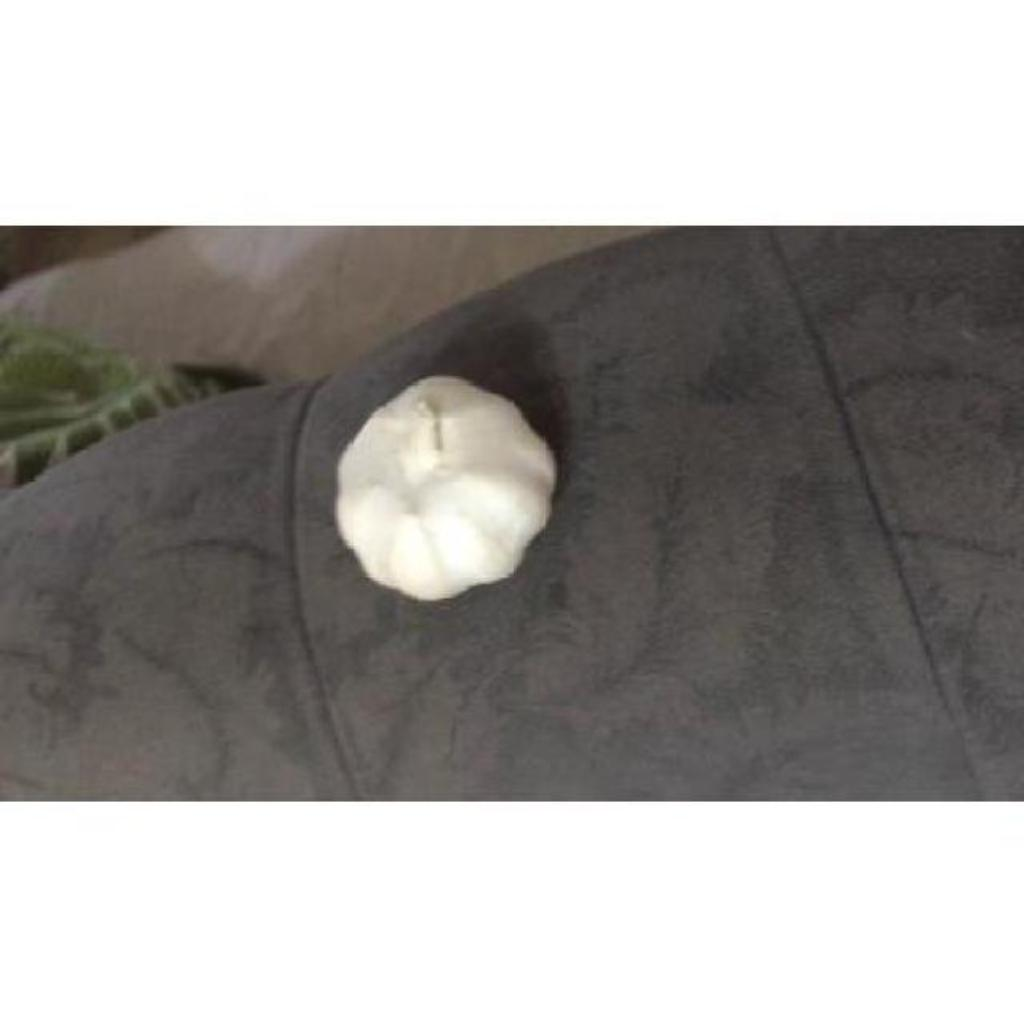garlic: (336, 376, 556, 600)
